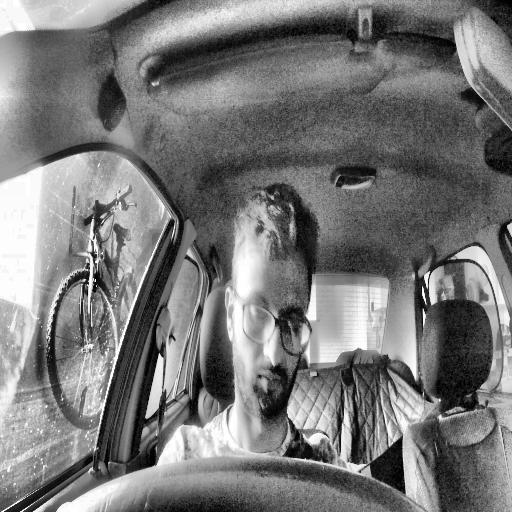drowsy: (224, 182, 318, 419)
